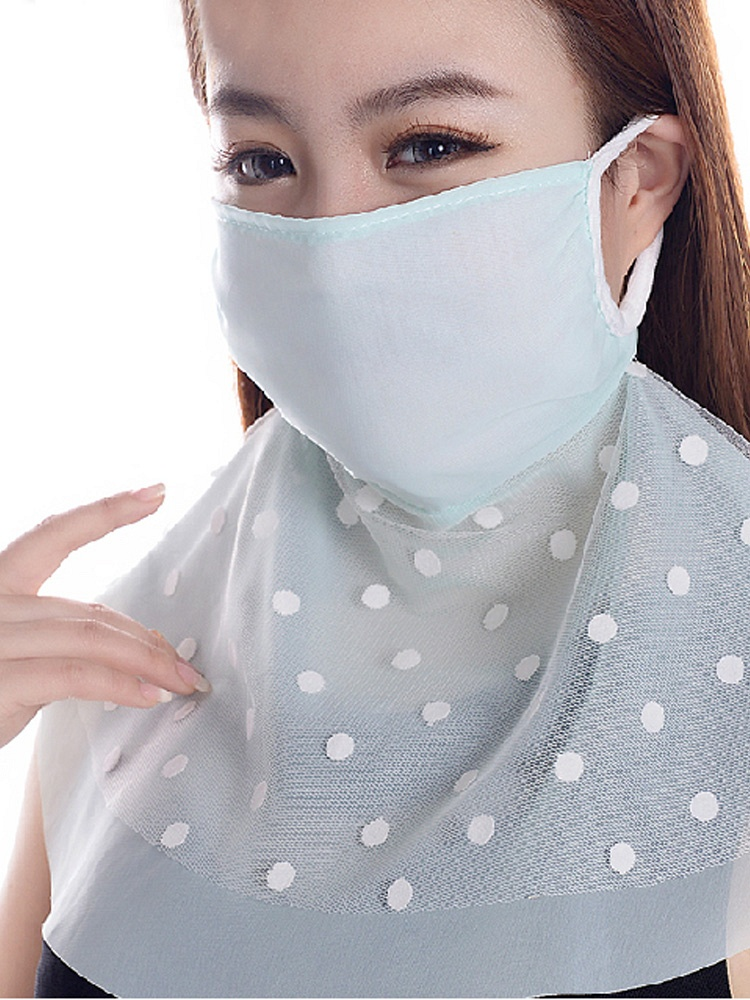face_mask: (199, 0, 593, 526)
